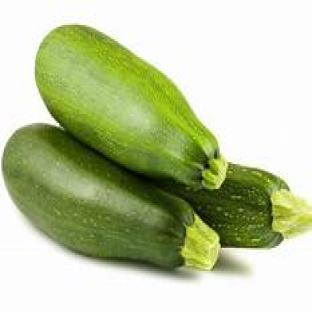Zucchini: (35, 25, 226, 188), (3, 125, 219, 269), (160, 165, 311, 247)
